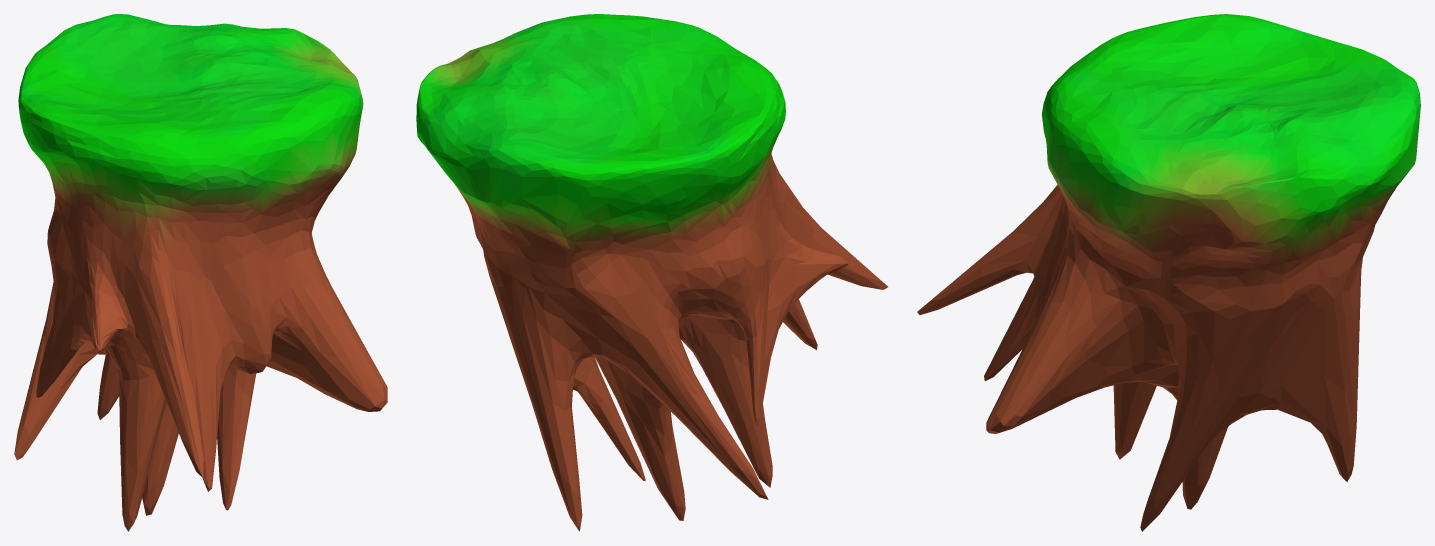
Rendered from Level_1_LowPoly.glb.
3 views of the same model, side by side, from view 1: azimuth 30°, elevation 25°; view 2: azimuth 150°, elevation 25°; view 3: azimuth 270°, elevation 25° (orthographic). The views are drawn at different scales.
Visible parts, largest first — view 1: Sphère; view 2: Sphère; view 3: Sphère.
Part boxes in pixels (x1,y1,x2,y2): Sphère: (14, 14, 387, 531); Sphère: (416, 14, 887, 531); Sphère: (917, 14, 1420, 531).
Size of the model in its own units: 41.1 by 51.73 by 51.99.
